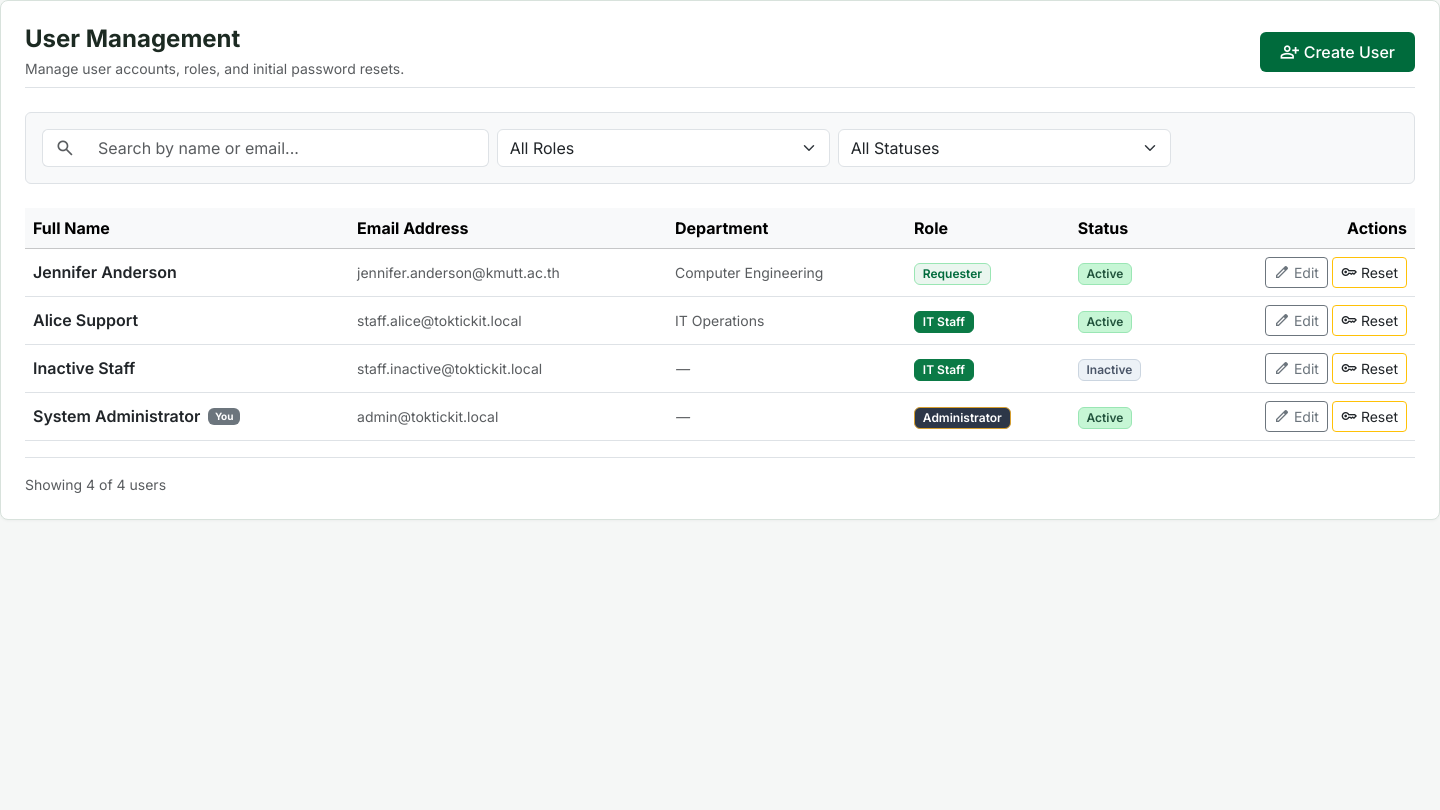
Test: Lab 3 Admin User Management UI Suite (client/tests/lab-03/UserManagement.test.tsx) › disables the Active toggle when editing the logged-in Administrator account (UI-07, AC-21, BR-08)
Expected: the text "System Administrator" is shown, top-left (33, 406), bottom-right (200, 426)
Note: Click Edit button on logged-in Admin row (id: 10)
Click the button with test id "edit-user-btn-10" at x=1296, y=416, box top-left (1265, 401), bottom-right (1328, 432)
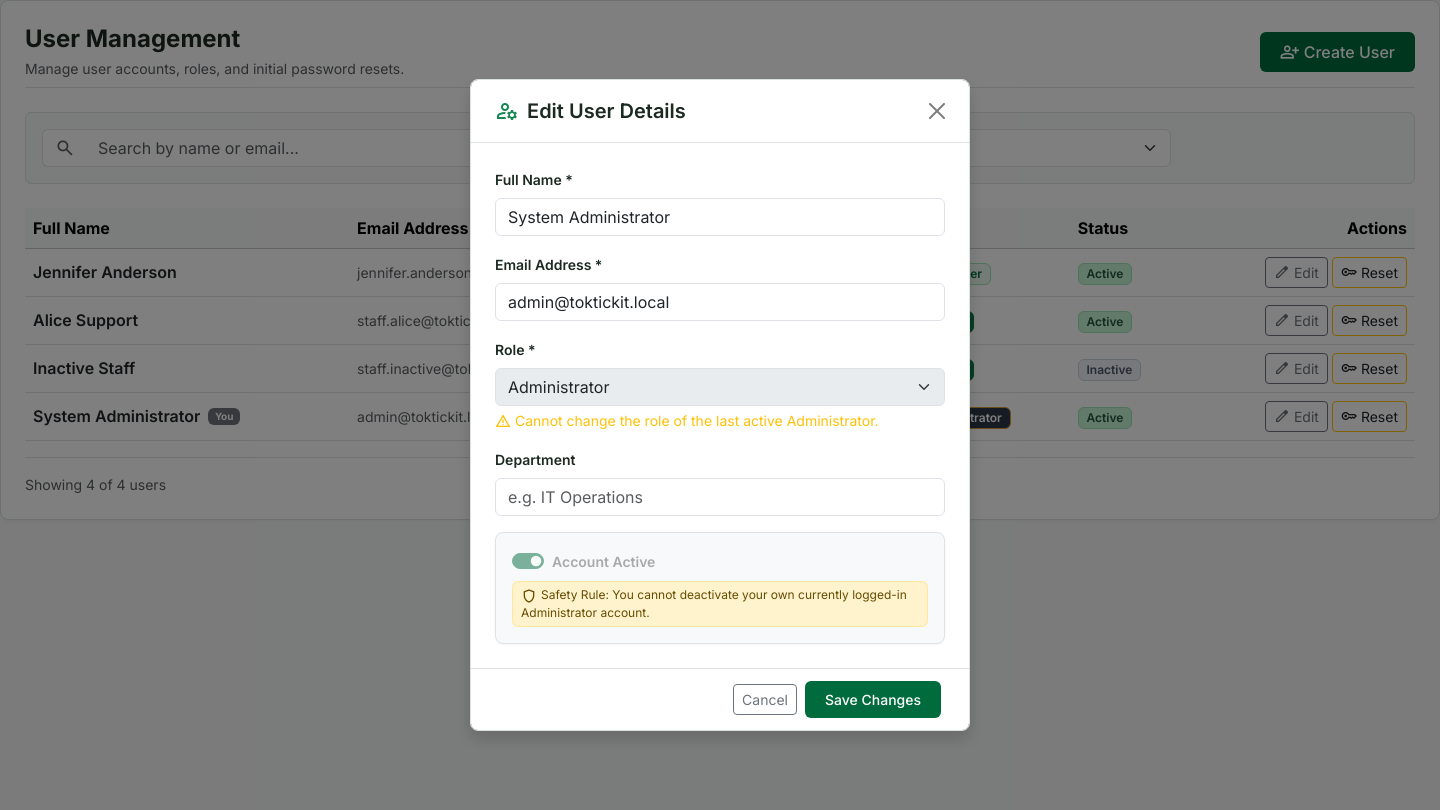
Expected: the heading "Edit User Details" is shown, top-left (527, 96), bottom-right (686, 126)
Expected: the switch with test id "edit-active-switch" is disabled, top-left (512, 553), bottom-right (544, 569)
Expected: the text "Safety Rule: You cannot deactivate your own currently logged-in Administrator account." is shown, top-left (521, 587), bottom-right (907, 620)
